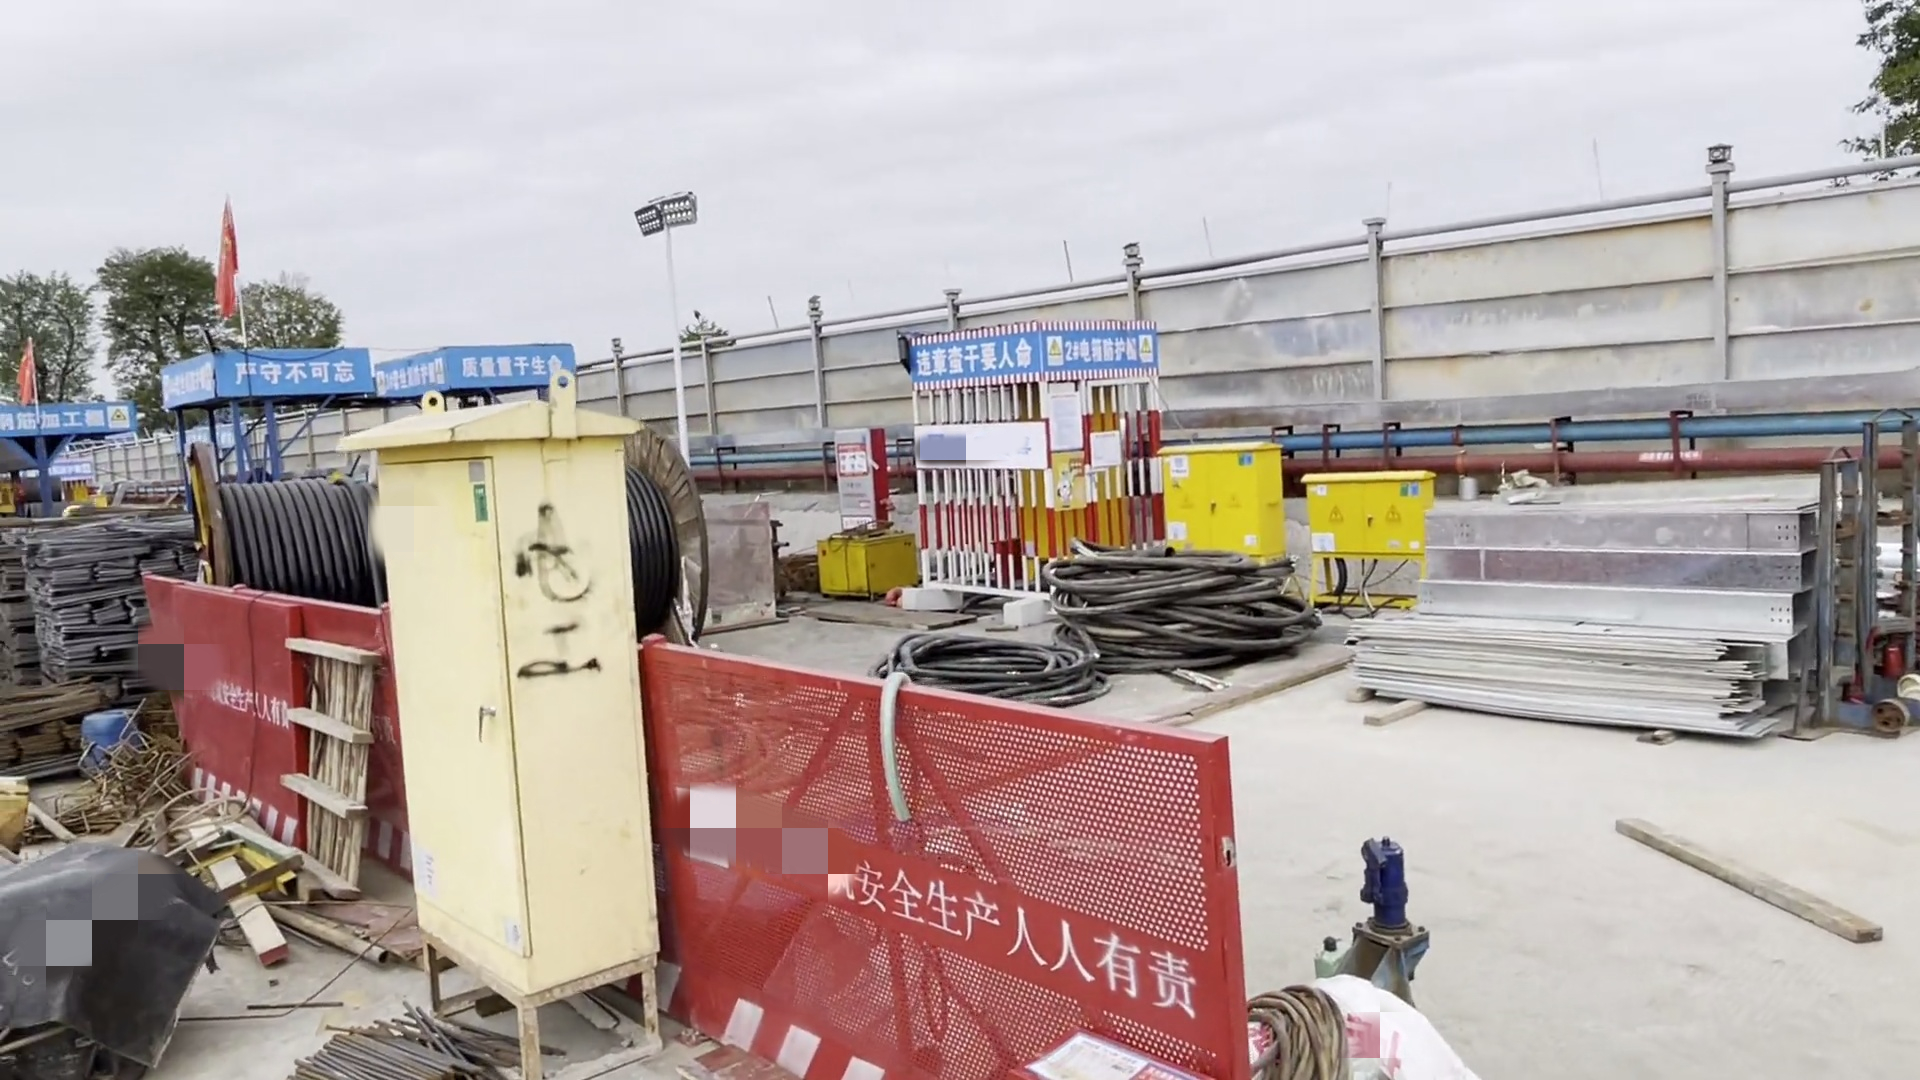ebox: (360, 386, 651, 1036), (1302, 475, 1431, 626), (1164, 442, 1273, 571), (1030, 380, 1112, 547)
fence: (641, 632, 1240, 1080), (127, 568, 380, 837)
rebar: (309, 1017, 480, 1080)
slogan: (368, 352, 582, 388), (907, 336, 1040, 378), (215, 355, 357, 392), (1042, 336, 1067, 371), (1135, 334, 1156, 364), (105, 407, 129, 430)
